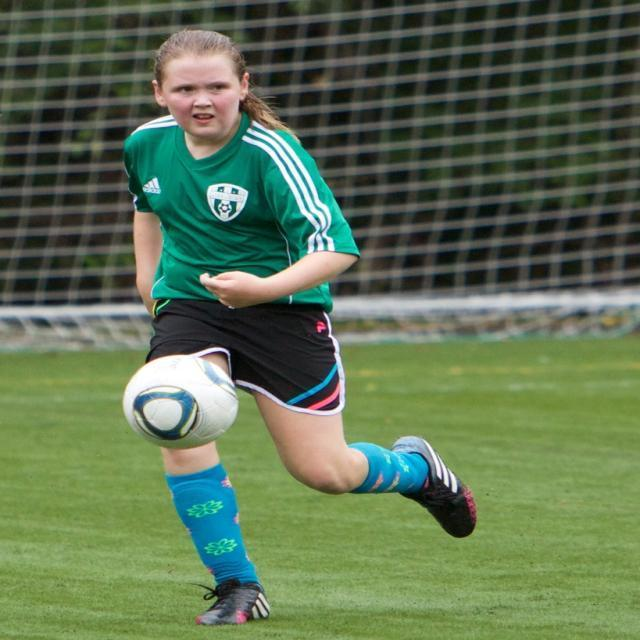football: (109, 350, 250, 465)
